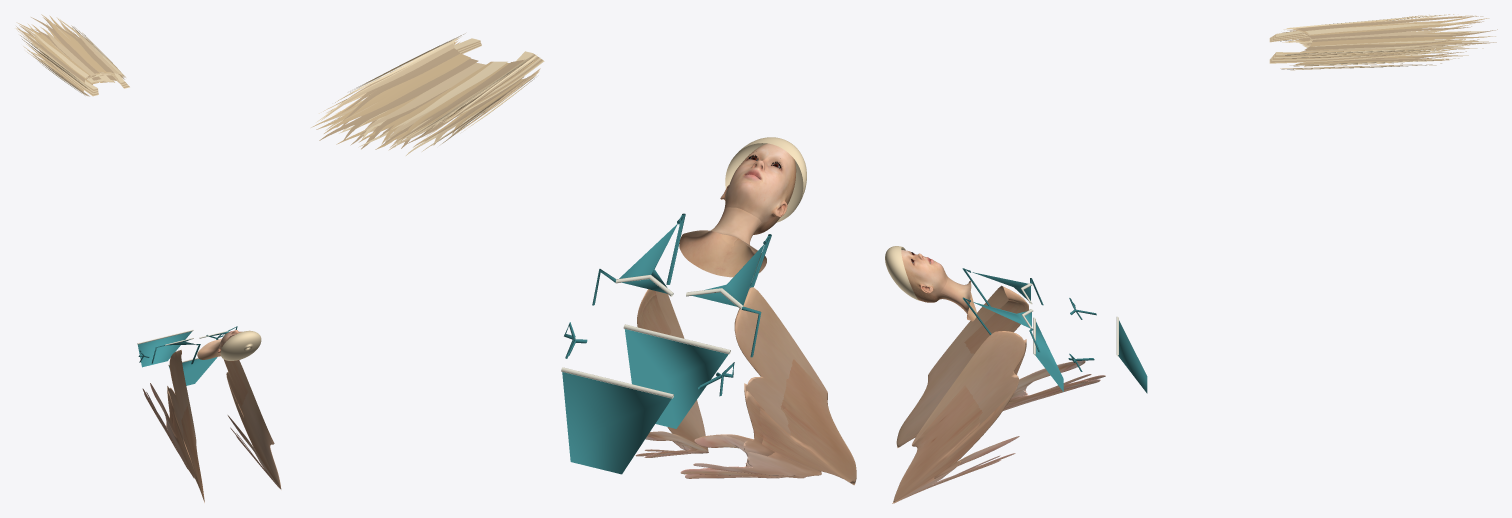
Rendered from riley-blonde-allfours.glb.
3 views of the same model, side by side, from view 1: azimuth 30°, elevation 25°; view 2: azimuth 150°, elevation 25°; view 3: azimuth 270°, elevation 25° (orthographic). The views are drawn at different scales.
Parts seen in each view (by area): view 1: Riley | anatomical body, Riley | bikini bottom back, Riley fitted blonde hair crown, Riley | bikini bottom front, Riley soft blonde layer 0 strand 20, Riley soft blonde layer 0 strand 23, Riley soft blonde layer 0 strand 26; view 2: Riley | anatomical body, Riley | bikini bottom back, Riley | bikini bottom front, Riley fitted blonde hair crown, Riley | bikini triangle top 1, Riley | bikini triangle top -1, Riley soft blonde layer 0 strand 20, Riley soft blonde layer 0 strand 26, Riley soft blonde layer 0 strand 23, Riley soft blonde layer 0 strand 15, Riley soft blonde layer 0 strand 33, Riley soft blonde layer 0 strand 10 (+2 smaller); view 3: Riley | anatomical body, Riley | bikini bottom back, Riley fitted blonde hair crown, Riley | bikini bottom front.
Boxes of the visible parts, box(x1,y1,x2,y2) form: Riley | anatomical body: box(142, 330, 281, 502); Riley | bikini bottom back: box(137, 331, 191, 367); Riley fitted blonde hair crown: box(220, 330, 261, 360); Riley | bikini bottom front: box(169, 357, 217, 385); Riley soft blonde layer 0 strand 20: box(41, 14, 105, 72); Riley soft blonde layer 0 strand 23: box(31, 17, 101, 73); Riley soft blonde layer 0 strand 26: box(40, 27, 97, 75); Riley | anatomical body: box(635, 143, 856, 485); Riley | bikini bottom back: box(562, 372, 672, 474); Riley | bikini bottom front: box(624, 329, 729, 428); Riley fitted blonde hair crown: box(725, 137, 806, 222); Riley | bikini triangle top 1: box(619, 223, 677, 293); Riley | bikini triangle top -1: box(691, 244, 764, 307); Riley soft blonde layer 0 strand 20: box(324, 53, 470, 133); Riley soft blonde layer 0 strand 26: box(363, 62, 485, 131); Riley soft blonde layer 0 strand 23: box(343, 58, 478, 140); Riley soft blonde layer 0 strand 15: box(343, 48, 459, 120); Riley soft blonde layer 0 strand 33: box(391, 61, 507, 129); Riley soft blonde layer 0 strand 10: box(321, 43, 454, 120); Riley | anatomical body: box(892, 250, 1105, 503); Riley | bikini bottom back: box(1118, 320, 1147, 393); Riley fitted blonde hair crown: box(885, 246, 920, 300); Riley | bikini bottom front: box(1034, 322, 1063, 391).
Size of the model in its own units: 0.4794 by 1.75 by 2.16.
Materials: 12 (5 with a texture image).
